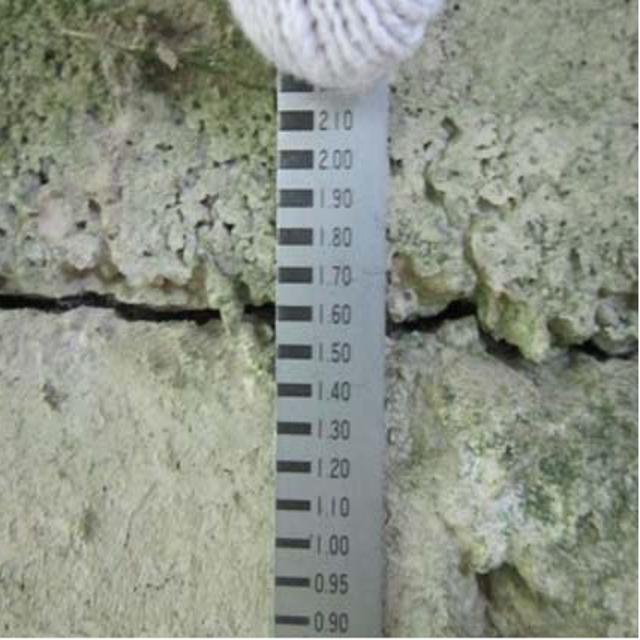crack: (394, 243, 634, 420), (7, 239, 277, 387)
